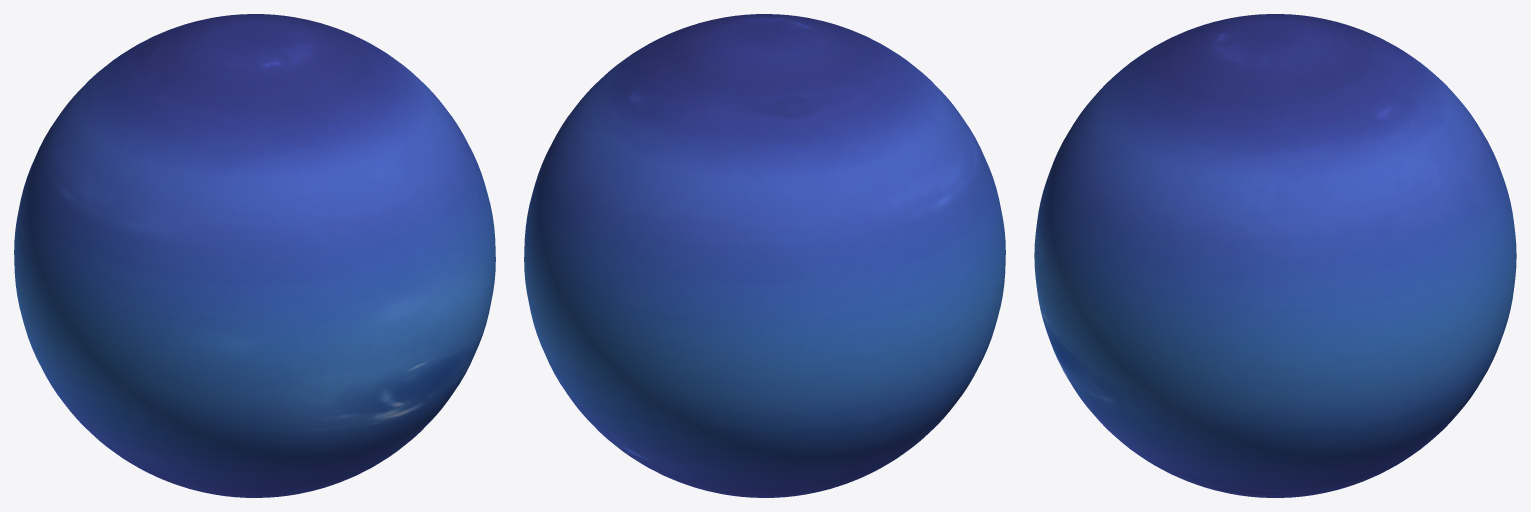
The model's file is neptune.glb.
3 views of the same model, side by side, from view 1: azimuth 30°, elevation 25°; view 2: azimuth 150°, elevation 25°; view 3: azimuth 270°, elevation 25° (orthographic).
Parts seen in each view (by area): view 1: Neptune_0; view 2: Neptune_0; view 3: Neptune_0.
Boxes of the visible parts, x1,y1,x2,y2 form: Neptune_0: (14, 14, 495, 497); Neptune_0: (524, 14, 1005, 497); Neptune_0: (1034, 14, 1516, 497).
Bounding box in the file's own units: 73.19 × 73.61 × 73.28.
Materials: 1 (1 with a texture image).
